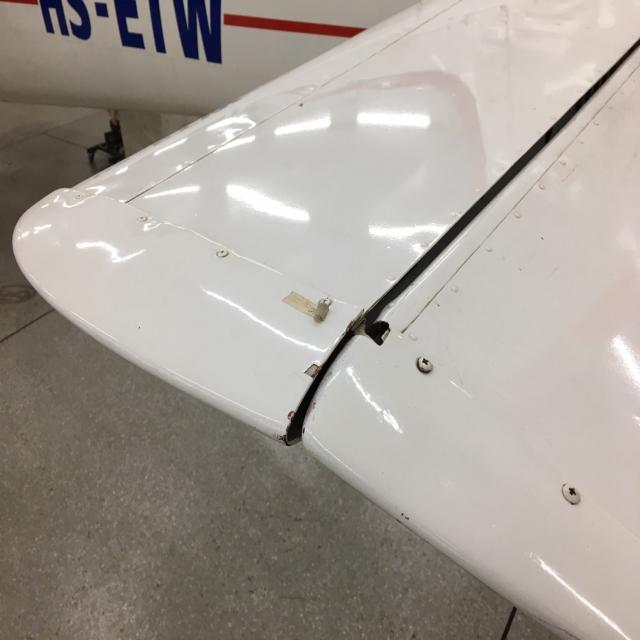Rupture: (274, 340, 331, 444)
